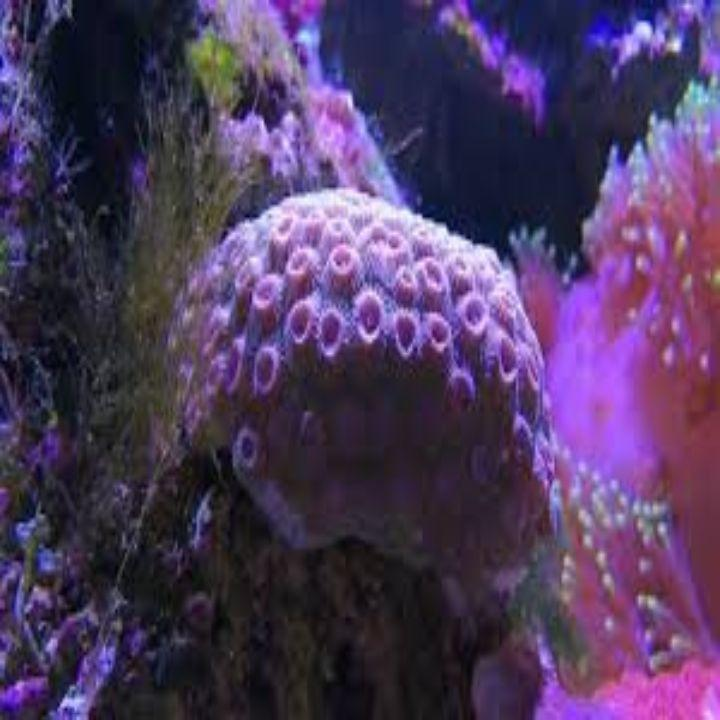Healthy Coral: (117, 194, 551, 605)
